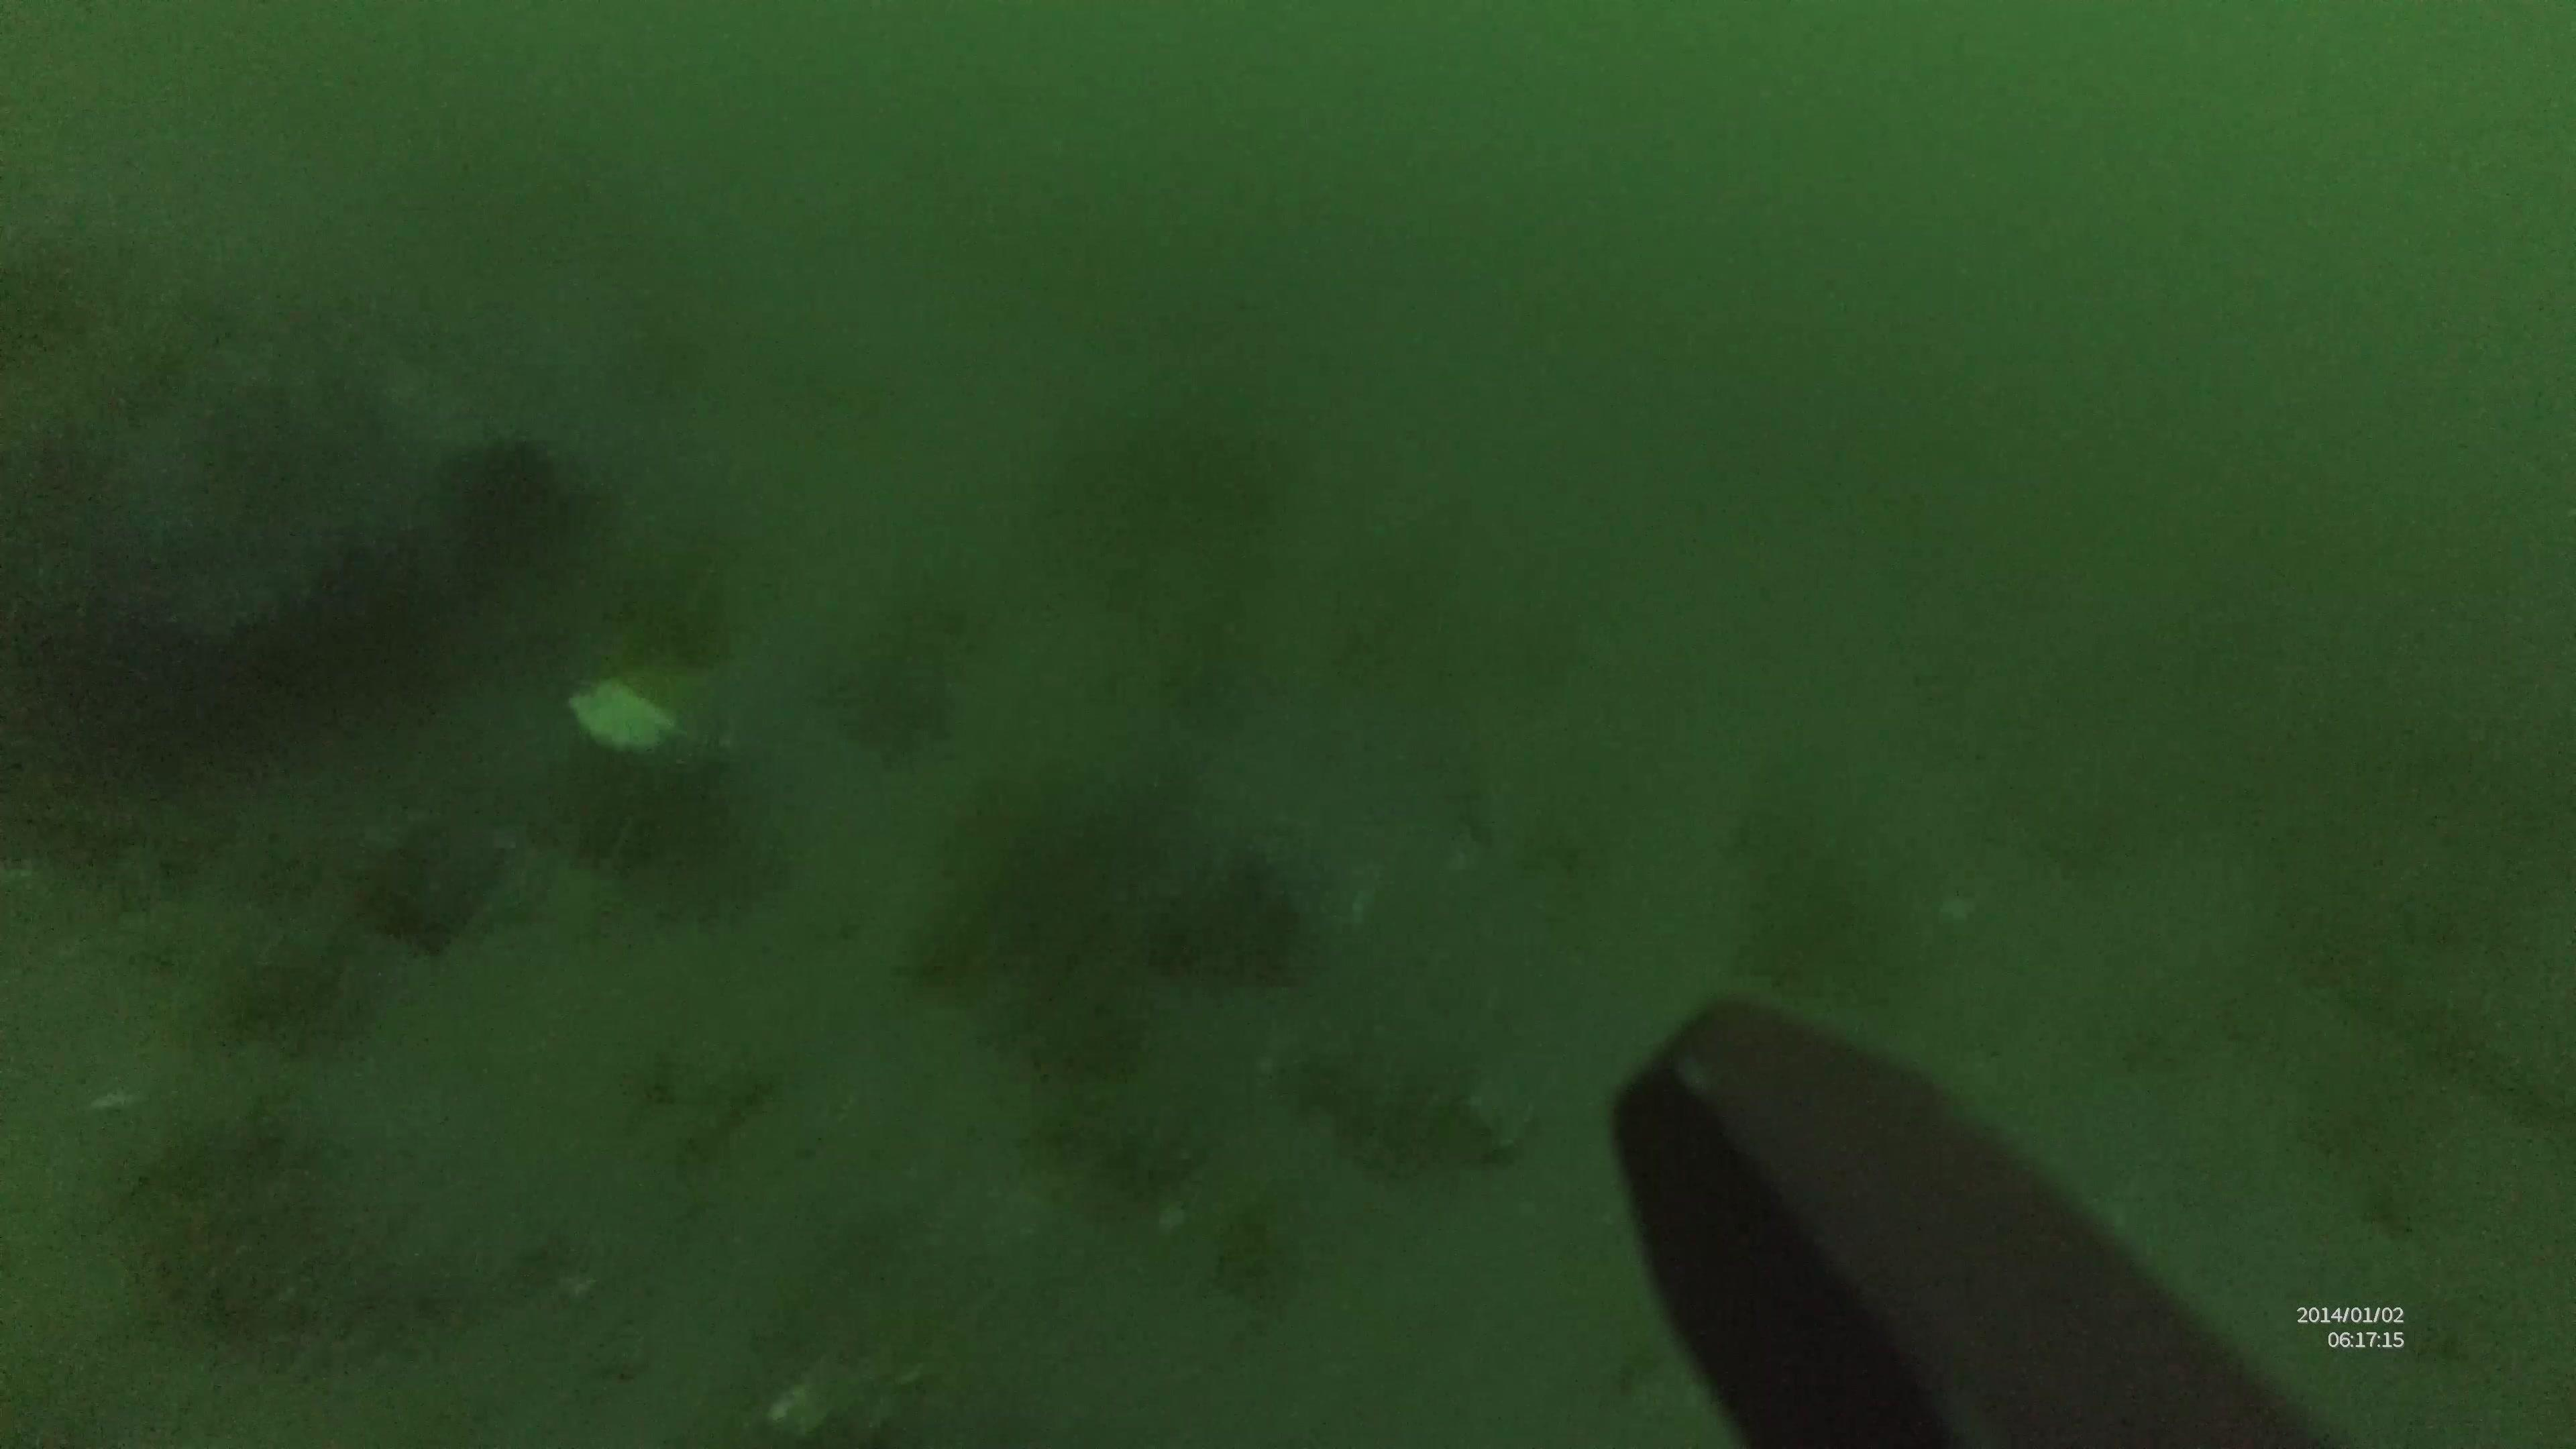echinus: (444, 425, 577, 548)
